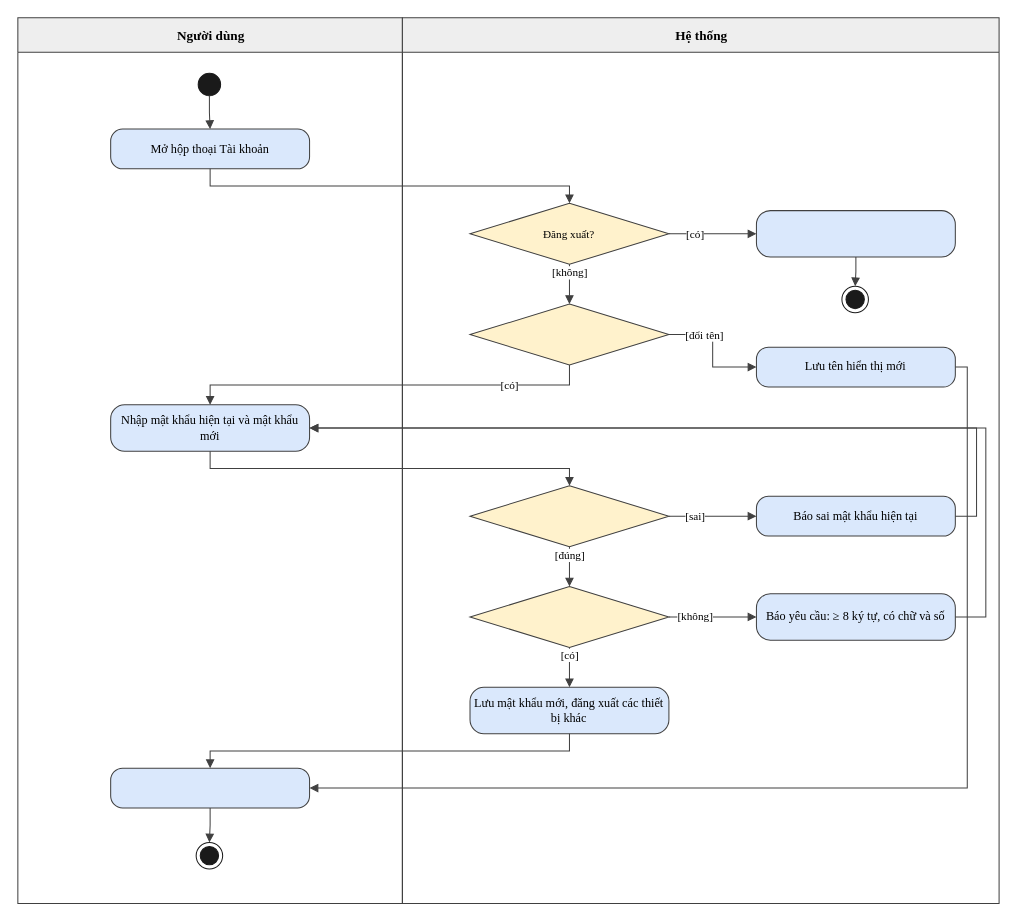
Some shapes in this 1017 by 922 pixel diagram are drawn without their labels. The centre of each missing label's shape, as x and y in pixels:
"Mật khẩu hiện tại đúng?" goes at point 569,516.
"Mật khẩu mới hợp lệ?" goes at point 569,616.
"Tiếp tục dùng phiên hiện tại" goes at point 210,787.
"Xóa token ở máy chủ, về màn đăng nhập" goes at point 855,233.
"Đổi mật khẩu?" goes at point 569,334.
